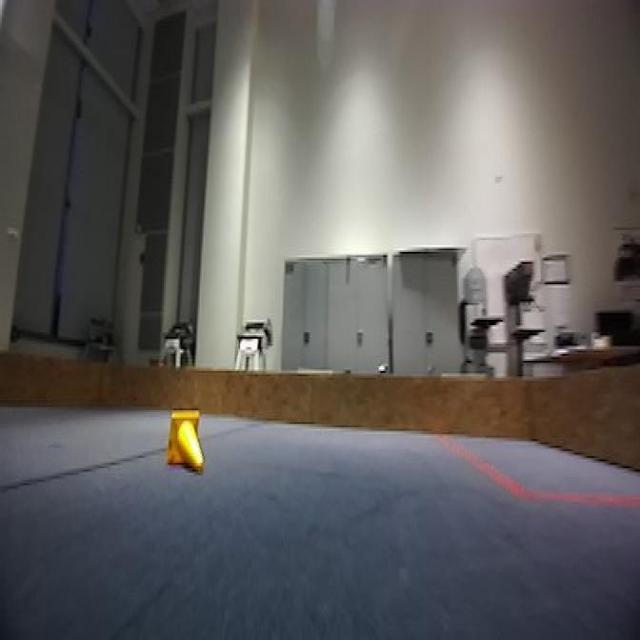frc_cone: (163, 407, 207, 478)
